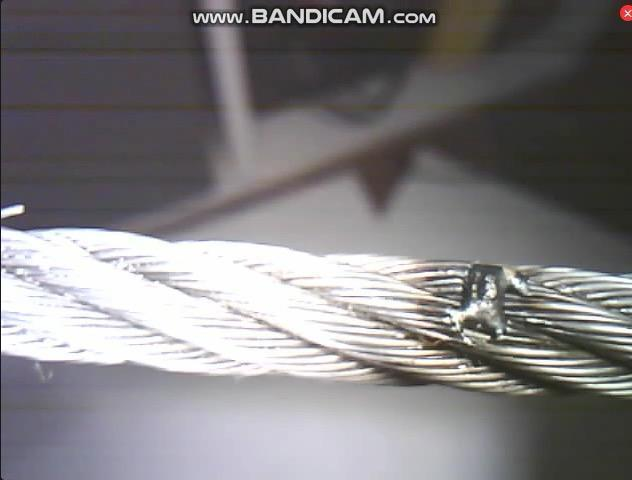thunderbolt: (444, 259, 542, 340)
